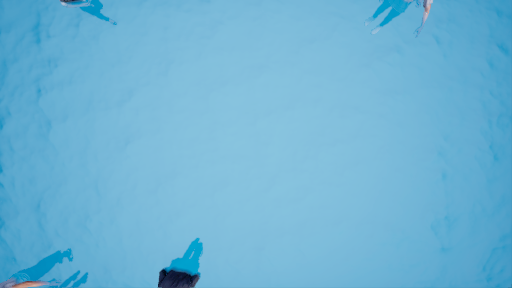person: (362, 1, 431, 41), (156, 234, 206, 288), (59, 1, 125, 30)
